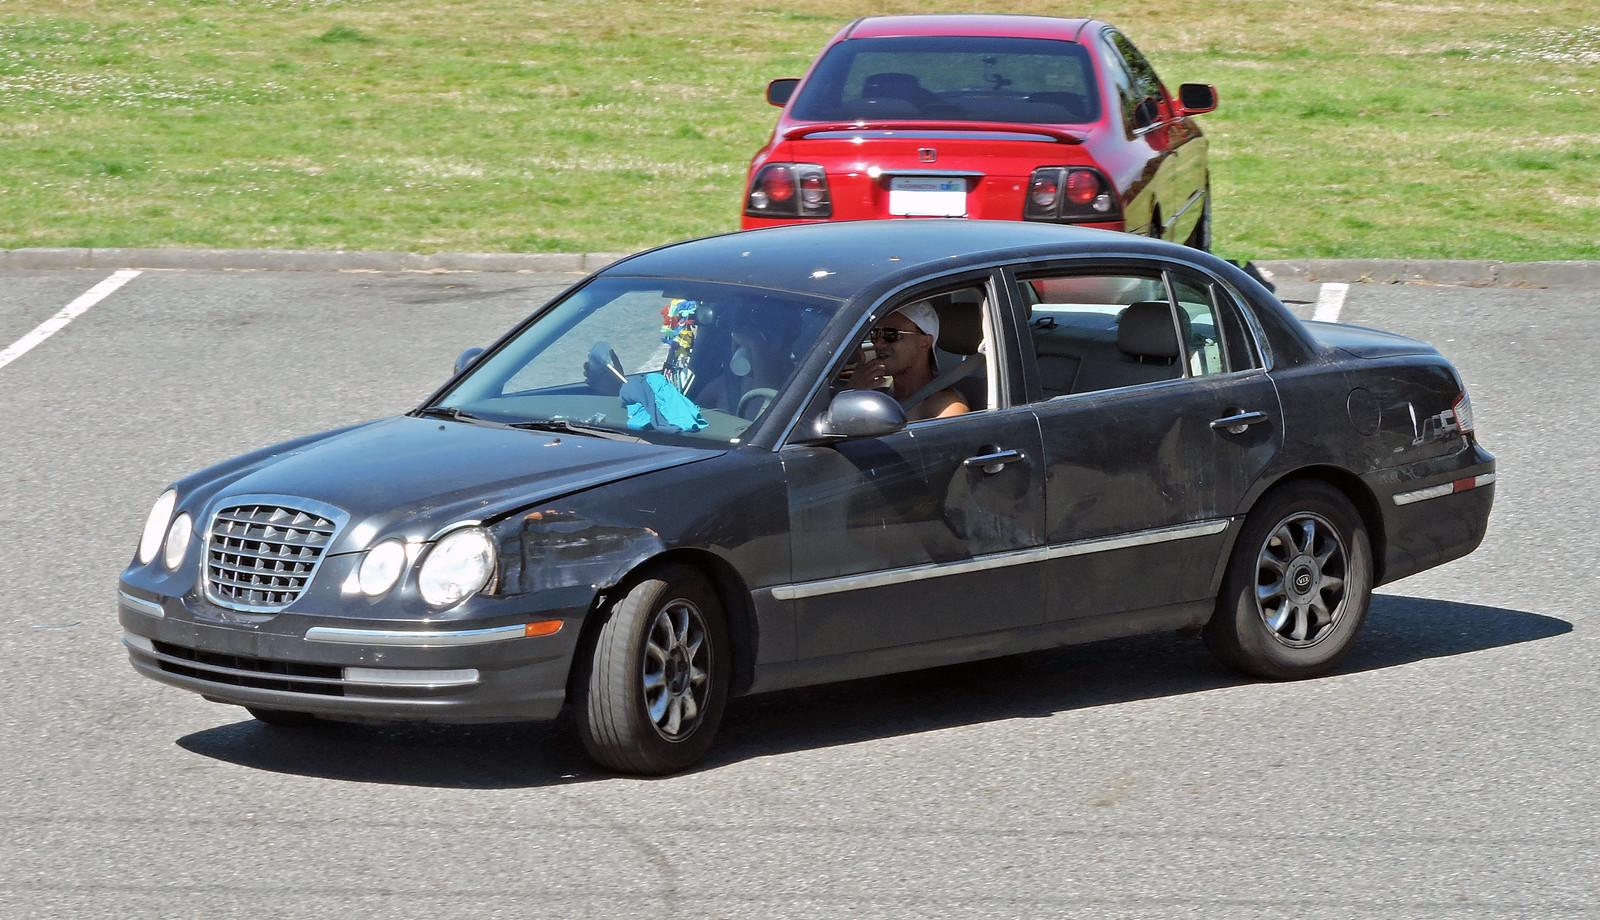doorouter-dent: (781, 425, 1037, 667), (1026, 403, 1267, 638)
fender-dent: (486, 437, 789, 627)
quaterpanel-dent: (1271, 348, 1515, 555)
